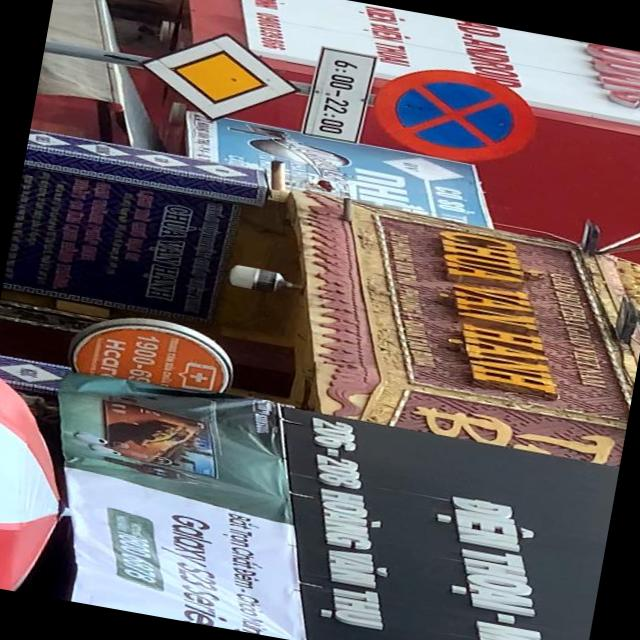P-130: (370, 56, 545, 174)
